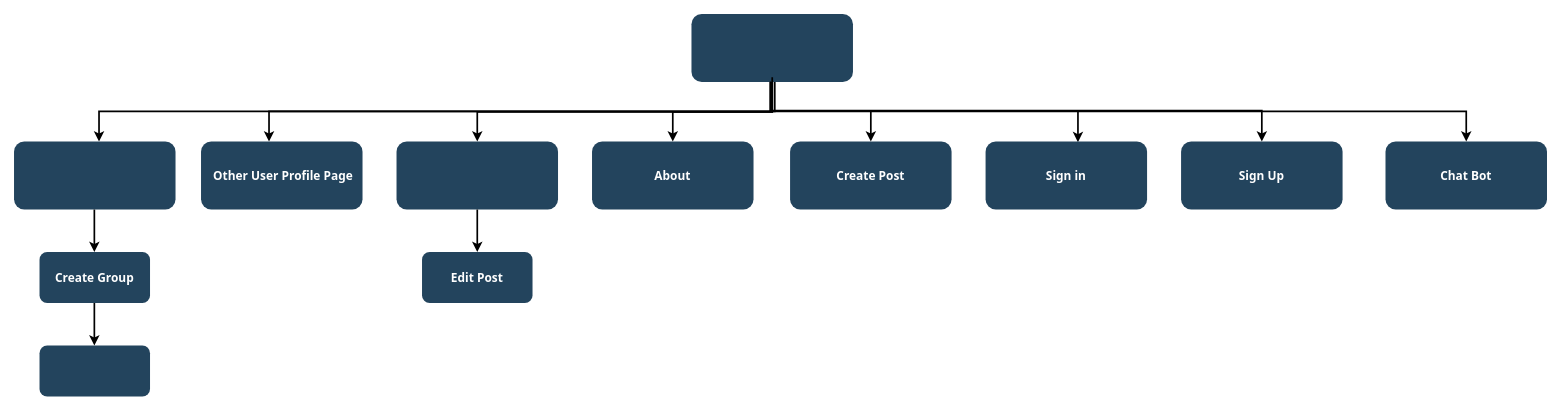
Image size: 1561x411. Some labels were removed from this diagram. The box of each missing label's shape, as (x1, y1, x2, y2) in pixels:
Group Page: (39, 345, 150, 396)
Groups: (14, 141, 175, 209)
Home: (691, 14, 853, 82)
Profile Page: (396, 141, 558, 209)
